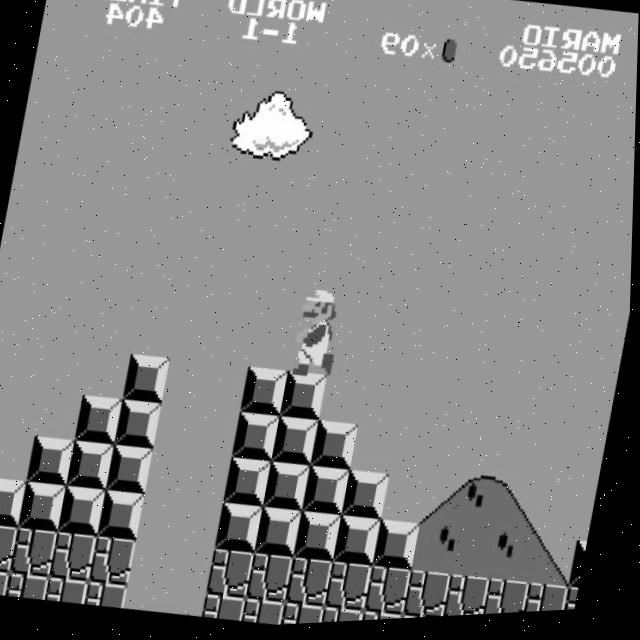17- undestructible_block: (327, 563, 377, 617), (12, 526, 62, 580), (367, 568, 416, 622), (288, 559, 337, 613), (249, 554, 298, 608), (209, 549, 258, 603), (91, 535, 140, 589), (52, 531, 101, 585), (406, 572, 455, 623), (445, 577, 494, 621), (485, 582, 534, 620), (524, 586, 573, 618), (205, 595, 250, 626), (8, 571, 53, 602), (48, 576, 92, 607), (87, 581, 132, 611), (244, 600, 289, 629), (0, 522, 22, 575), (284, 604, 329, 628), (323, 608, 367, 626), (363, 613, 407, 625), (565, 592, 583, 616), (0, 567, 14, 597)
4- fire_mario: (292, 282, 352, 384)
9- hard_block: (335, 518, 385, 572), (281, 372, 331, 426), (225, 458, 275, 512), (217, 504, 267, 558), (375, 522, 424, 576), (305, 468, 354, 522), (296, 513, 345, 567), (265, 463, 314, 517), (242, 367, 291, 421), (124, 354, 173, 408), (107, 445, 156, 499), (99, 489, 148, 543), (68, 440, 117, 494), (60, 485, 109, 539), (29, 435, 78, 489), (21, 480, 70, 534), (344, 473, 393, 526), (313, 422, 362, 475), (273, 418, 322, 471), (257, 509, 306, 562), (234, 413, 283, 466), (116, 399, 165, 452), (77, 394, 126, 447), (0, 475, 30, 529), (573, 546, 591, 594)
